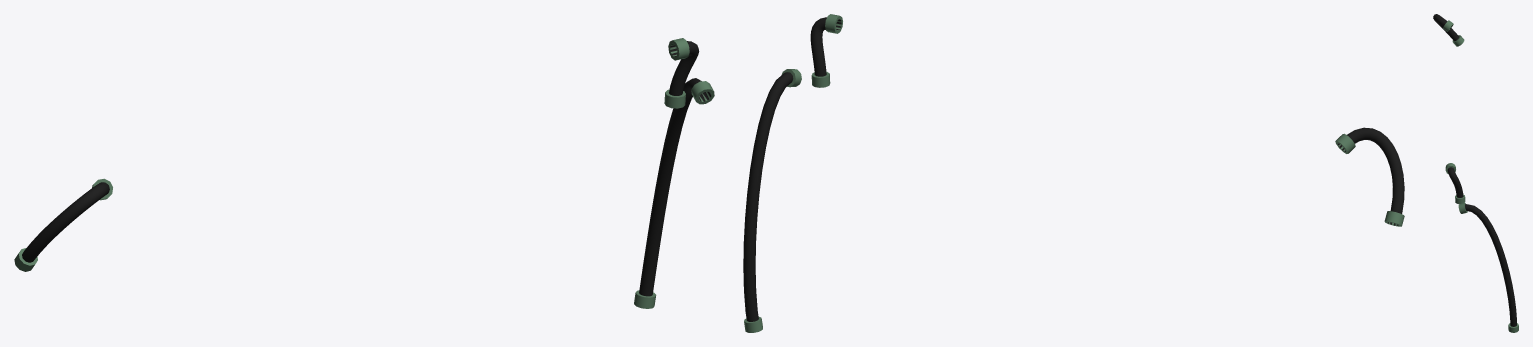
File: t60_hoses.obj
3 renders of one model, left to right at view 1: azimuth 30°, elevation 25°; view 2: azimuth 150°, elevation 25°; view 3: azimuth 270°, elevation 25°, orthographic. The views are drawn at different scales.
Visible parts, largest first — view 1: t60_hoses; view 2: t60_hoses; view 3: t60_hoses.
Part boxes in pixels (x1=…): t60_hoses: x1=14, y1=38, x2=714, y2=308; t60_hoses: x1=743, y1=14, x2=1404, y2=332; t60_hoses: x1=1433, y1=14, x2=1518, y2=332.
Bounding box in the file's own units: 4.63 × 2.06 × 0.9808.
